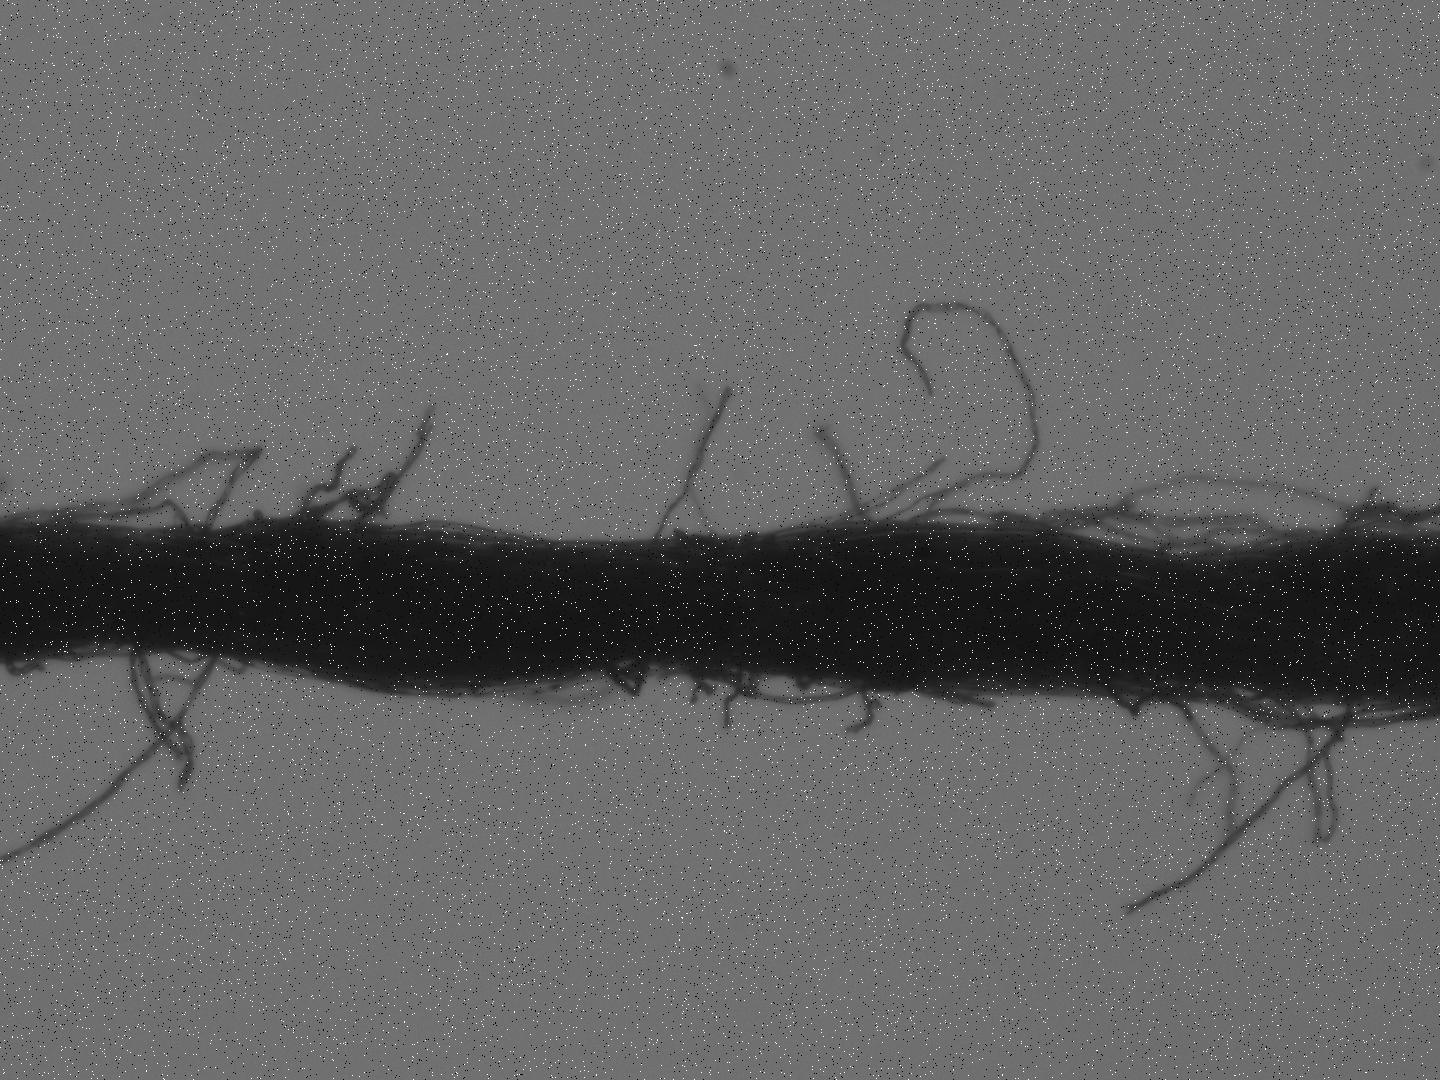loop_fiber: (29, 444, 262, 547), (1059, 501, 1286, 560), (234, 465, 401, 538), (1277, 691, 1344, 852), (1099, 677, 1228, 725), (1315, 503, 1424, 556), (893, 507, 1052, 540), (689, 657, 771, 707), (168, 641, 261, 684), (865, 680, 998, 707), (591, 651, 655, 703), (34, 636, 127, 668)
protruding_fiber: (1120, 691, 1363, 928), (649, 376, 738, 554)
